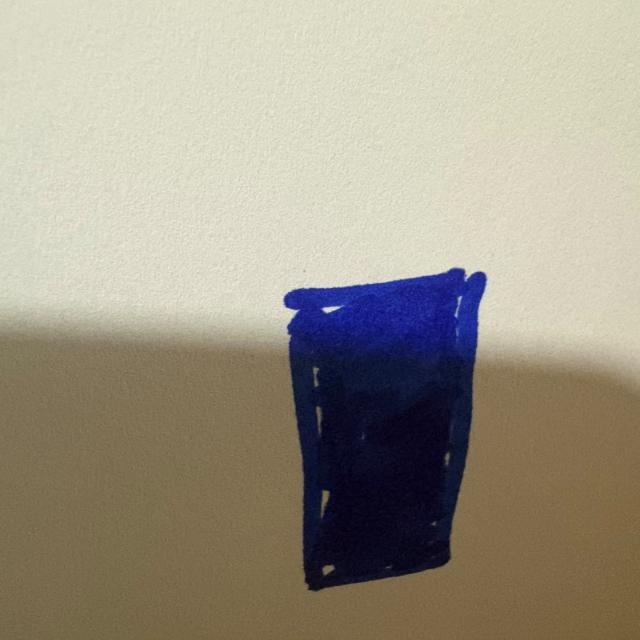Rectangle: (284, 268, 486, 591)
